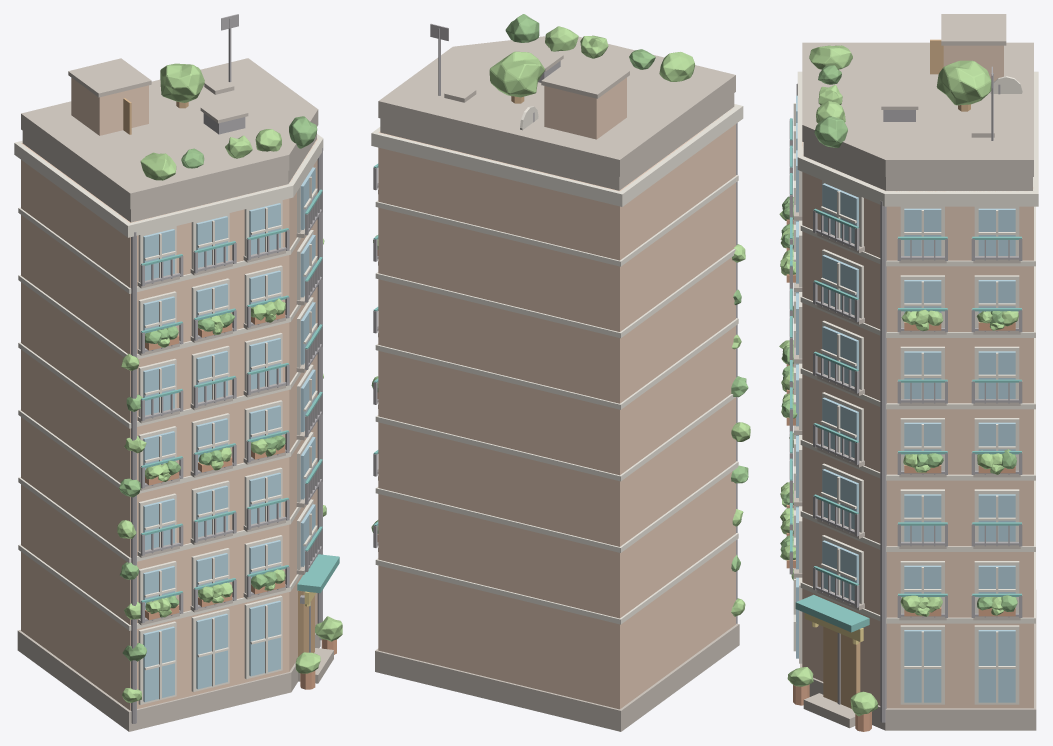
Rendered from Building_Corner_B.fbx.
3 renders of one model, left to right at view 1: azimuth 30°, elevation 25°; view 2: azimuth 150°, elevation 25°; view 3: azimuth 270°, elevation 25°, orthographic. The views are drawn at different scales.
Visible parts, largest first — view 1: Building_Corner_B, Building_Corner_B_Veg; view 2: Building_Corner_B, Building_Corner_B_Veg; view 3: Building_Corner_B, Building_Corner_B_Veg.
Boxes of the visible parts, x1,y1,x2,y2 form: Building_Corner_B: (14, 14, 339, 731); Building_Corner_B_Veg: (117, 63, 342, 702); Building_Corner_B: (371, 23, 743, 731); Building_Corner_B_Veg: (371, 14, 750, 616); Building_Corner_B: (789, 14, 1038, 730); Building_Corner_B_Veg: (779, 45, 1018, 731).
Size of the model in its own units: 6.86 by 15.2 by 5.6.
